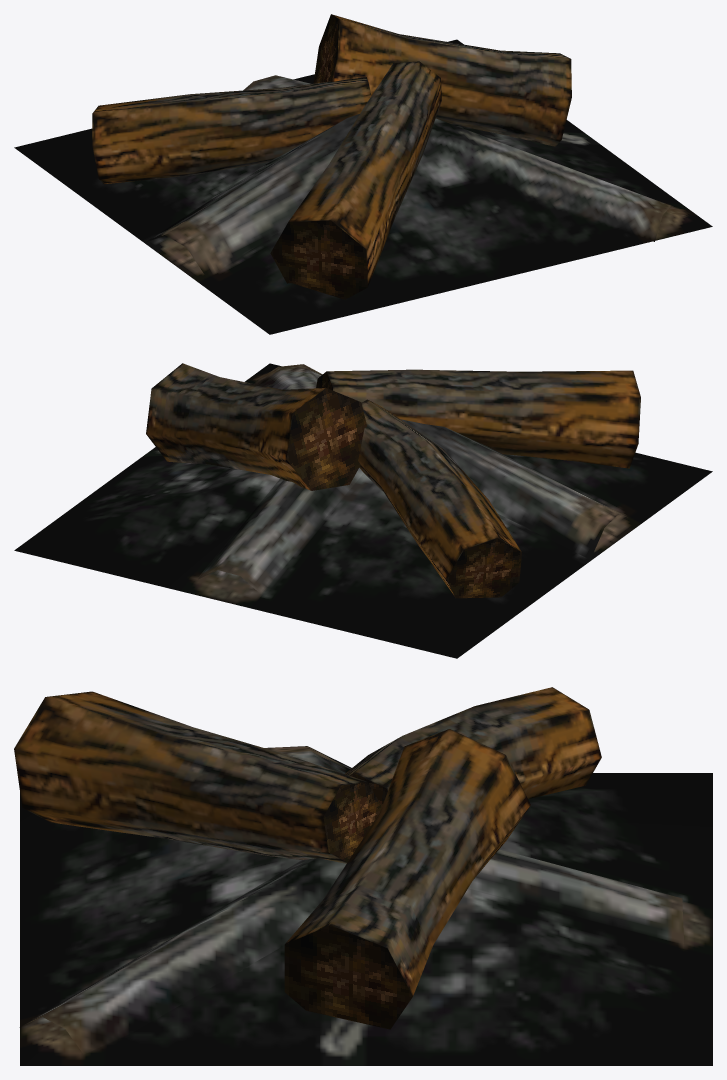
Rendered from INST_OH_FIRE_PIT_01.fbx.
3 renders of one model, top to bottom at view 1: azimuth 30°, elevation 25°; view 2: azimuth 150°, elevation 25°; view 3: azimuth 270°, elevation 25°, orthographic. The views are drawn at different scales.
Visible parts, largest first — view 1: INST_OH_FIRE_PIT_01; view 2: INST_OH_FIRE_PIT_01; view 3: INST_OH_FIRE_PIT_01.
Boxes of the visible parts, x1,y1,x2,y2 form: INST_OH_FIRE_PIT_01: (14,14,712,334); INST_OH_FIRE_PIT_01: (14,363,712,658); INST_OH_FIRE_PIT_01: (14,687,712,1065).
Bounding box in the file's own units: 11769 × 3708 × 11846.
3 materials, 3 textured.
